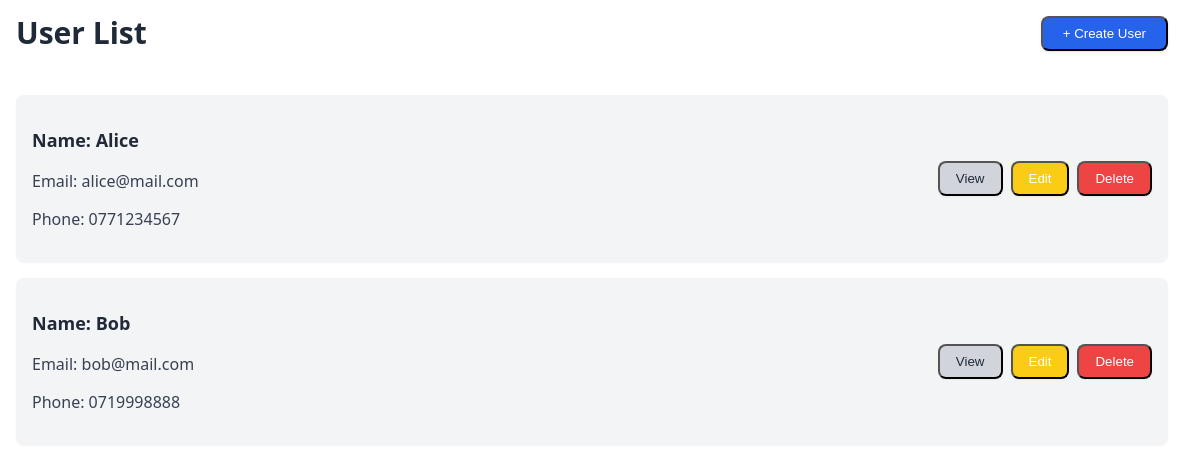
Test case: Delete User (app/page.js) › deletes a user after confirmation and removes from UI
The width and height of the screenshot is (1185, 462).
Check: the heading "Name: Alice" is shown, box [32,128,139,152]
Check: the heading "Name: Bob" is shown, box [32,311,130,335]
# click first Delete button (Alice card)
Step 1. Click the button "Delete" in the row of "alice@mail.com" → click(1115, 179), box [1078,161,1152,196]
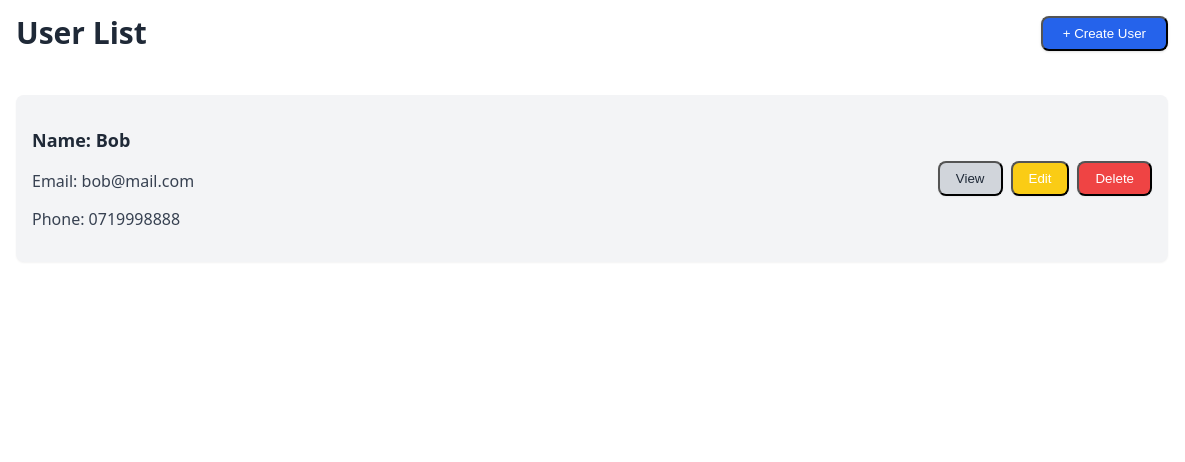
Check: the heading "Name: Bob" is shown, box [32,128,130,152]
Check: the heading "Name: Alice" is gone
